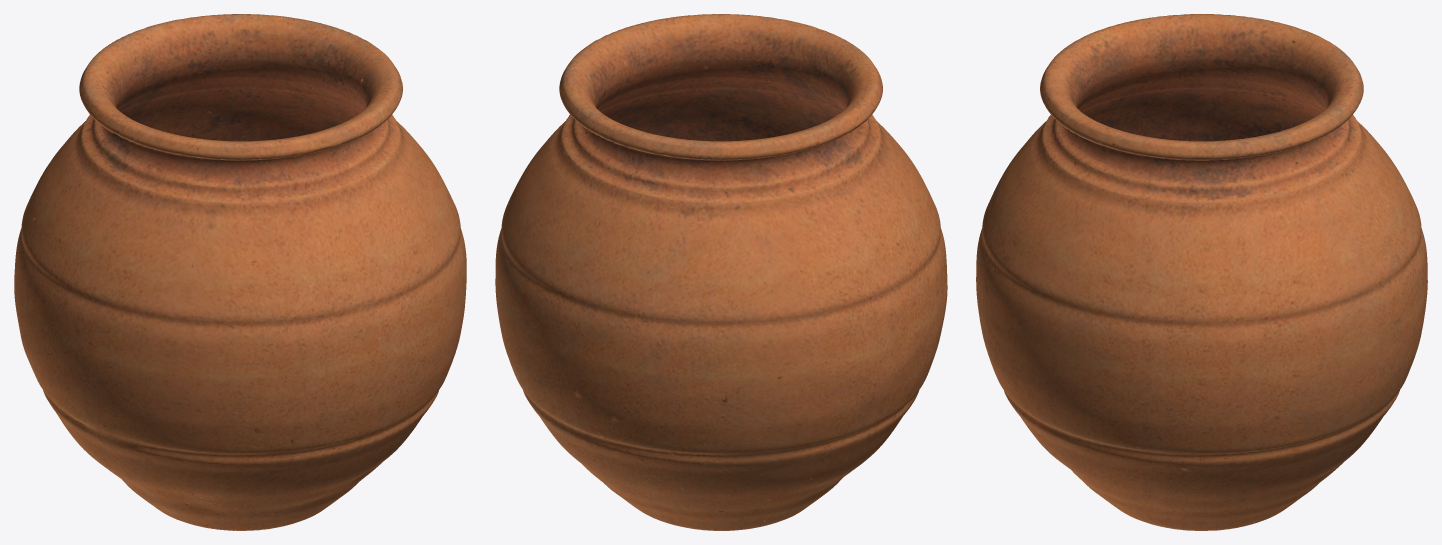
File: obj_imported_pottery_a_sik4b3_3871ba.glb
3 views of the same model, side by side, from view 1: azimuth 30°, elevation 25°; view 2: azimuth 150°, elevation 25°; view 3: azimuth 270°, elevation 25° (orthographic).
Visible parts, largest first — view 1: obj_imported_pottery_a_sik4b3_3871ba; view 2: obj_imported_pottery_a_sik4b3_3871ba; view 3: obj_imported_pottery_a_sik4b3_3871ba.
Part boxes in pixels (x1,y1,x2,y2): obj_imported_pottery_a_sik4b3_3871ba: (14,14,466,530); obj_imported_pottery_a_sik4b3_3871ba: (495,14,947,530); obj_imported_pottery_a_sik4b3_3871ba: (976,14,1427,530).
Bounding box in the file's own units: 0.2928 × 0.3 × 0.292.
1 material, 1 textured.
